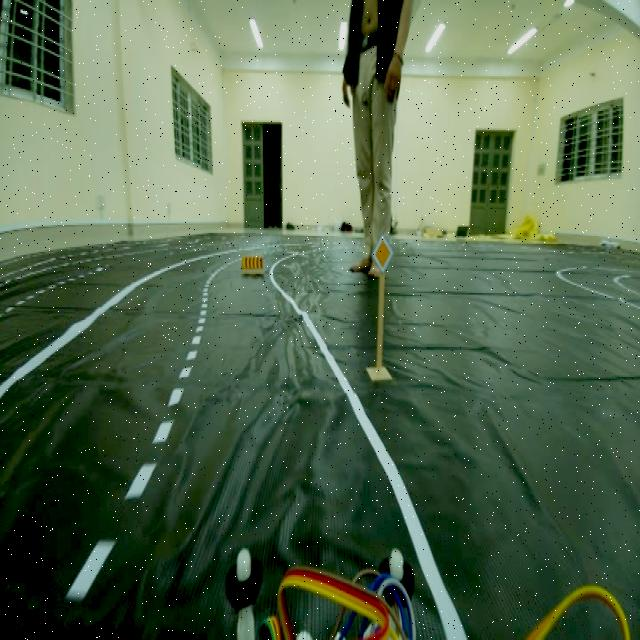priority: (372, 230, 396, 279)
